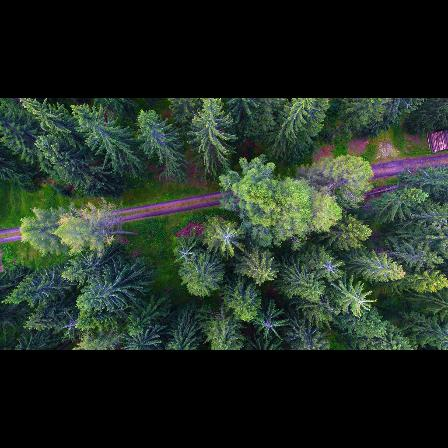Sick: (211, 222, 243, 255), (249, 312, 287, 339), (315, 251, 347, 281), (166, 239, 198, 268)
